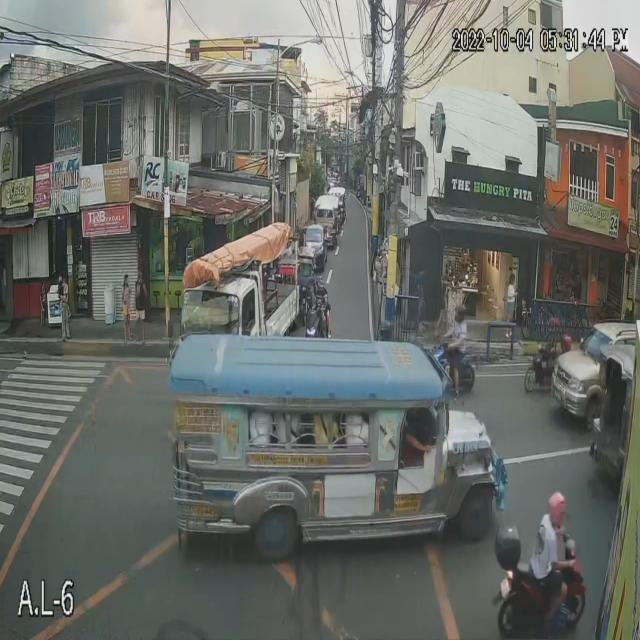half: (547, 491, 568, 529)
